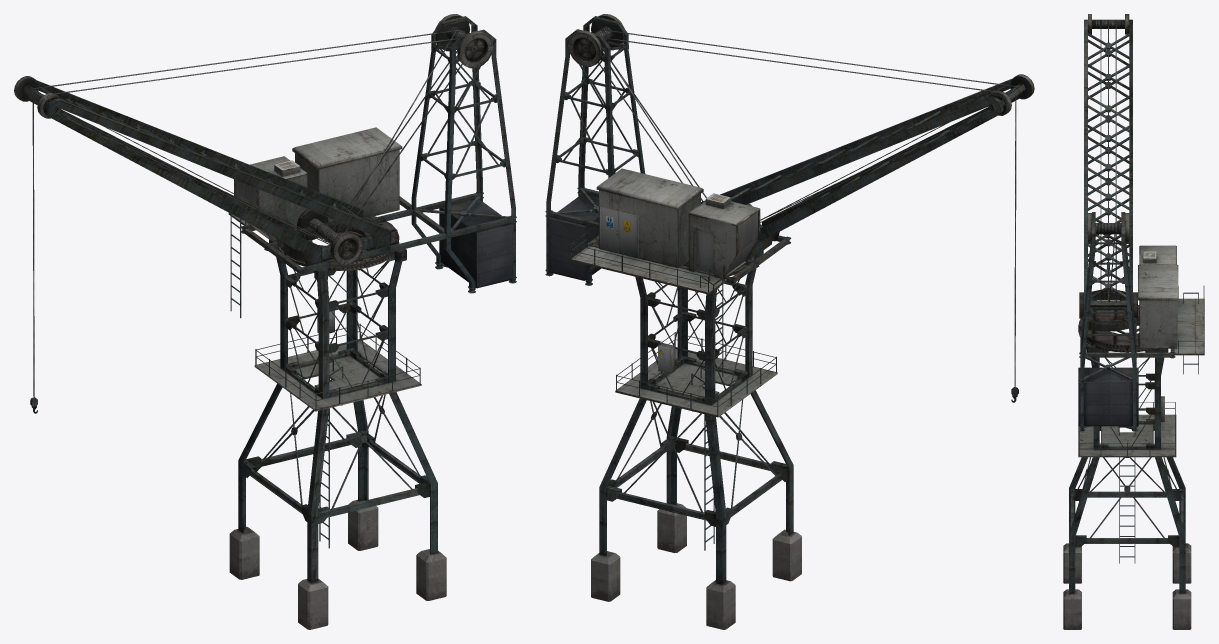
The model's file is crane.glb.
3 views of the same model, side by side, from view 1: azimuth 30°, elevation 25°; view 2: azimuth 150°, elevation 25°; view 3: azimuth 270°, elevation 25° (orthographic). The views are drawn at different scales.
Parts seen in each view (by area): view 1: Merged; view 2: Merged; view 3: Merged.
Boxes of the visible parts, box(x1,y1,x2,y2) form: Merged: box(14, 14, 516, 629); Merged: box(545, 14, 1034, 629); Merged: box(1063, 14, 1204, 629).
Size of the model in its own units: 29.04 by 34.24 by 9.41.
4 materials, 4 textured.
